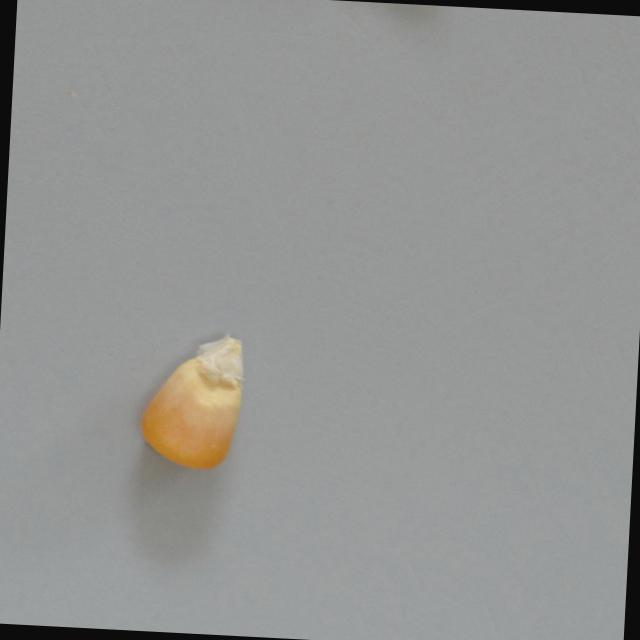entero: (132, 328, 250, 478)
